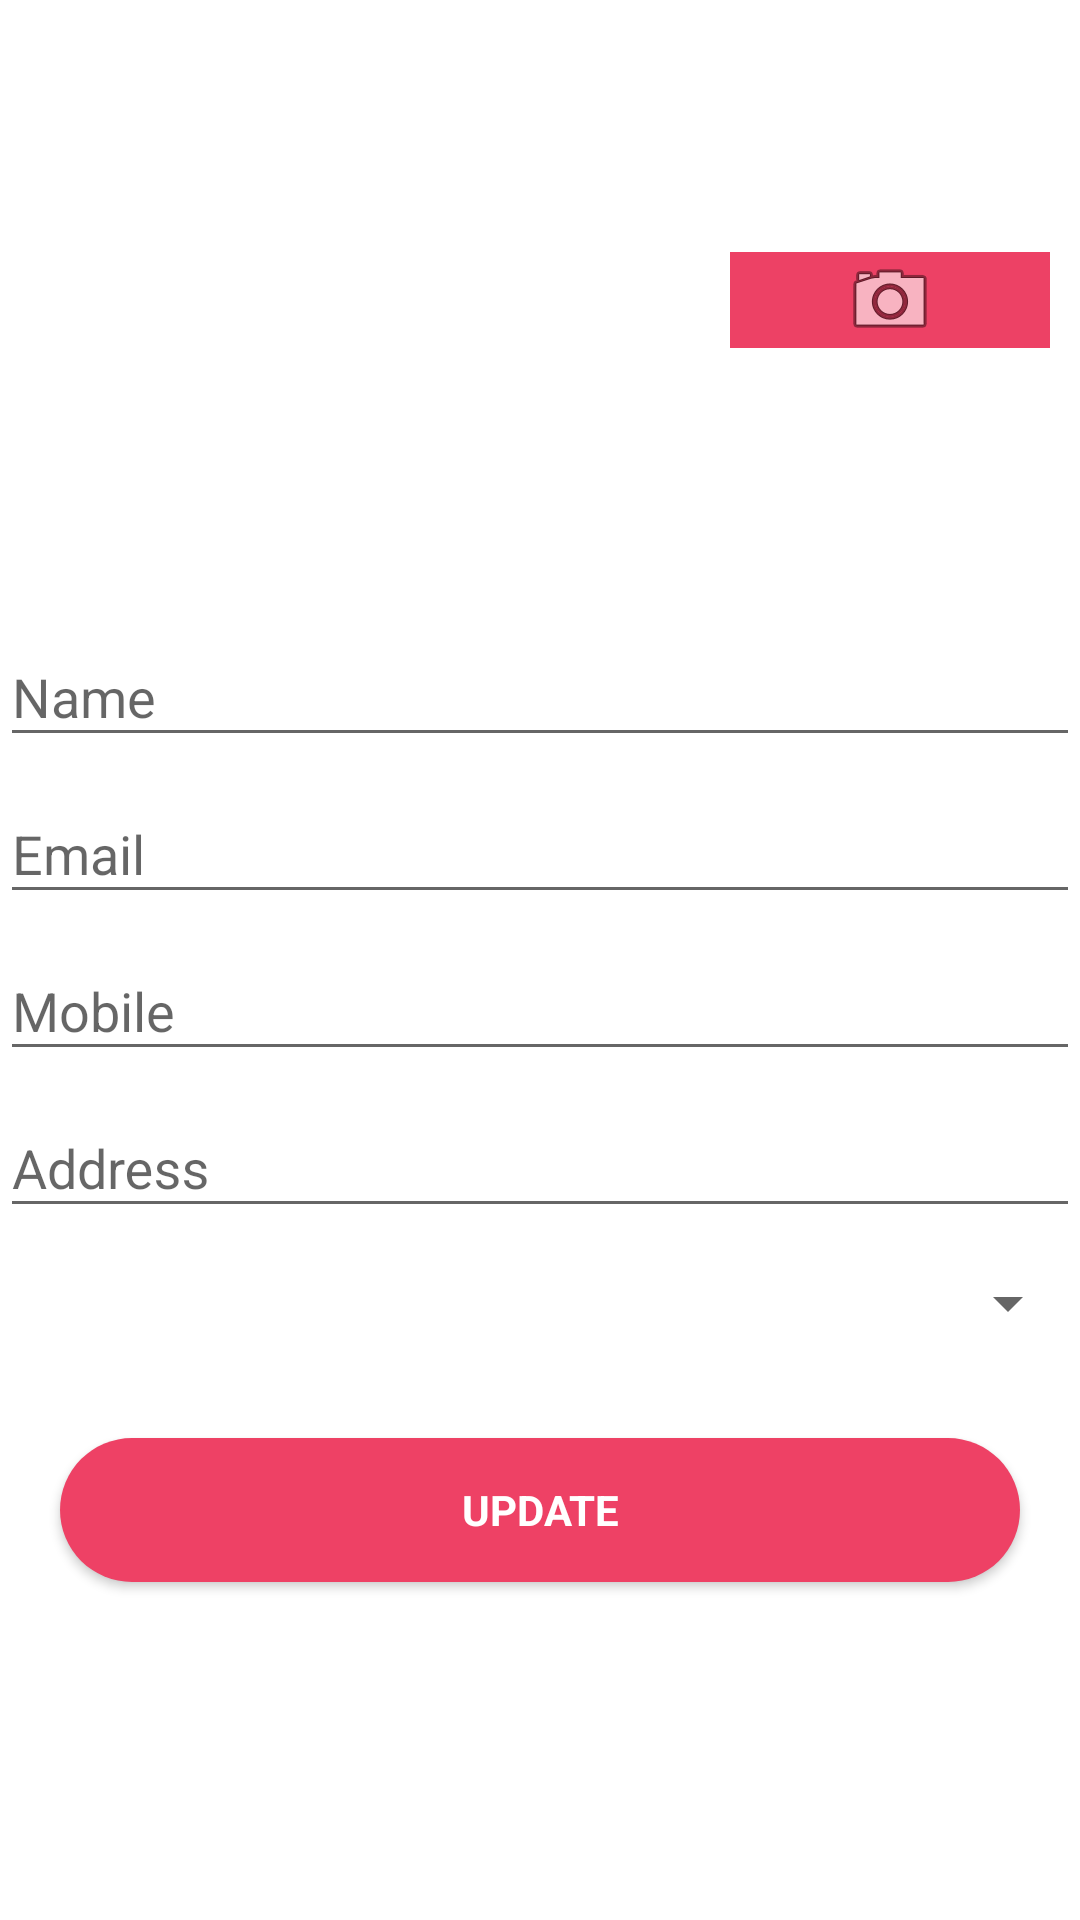

Icons on this 1080×1920 Android screen, each with its box as (x1, y1, x2, y2):
camera: (730, 252, 1050, 348)
